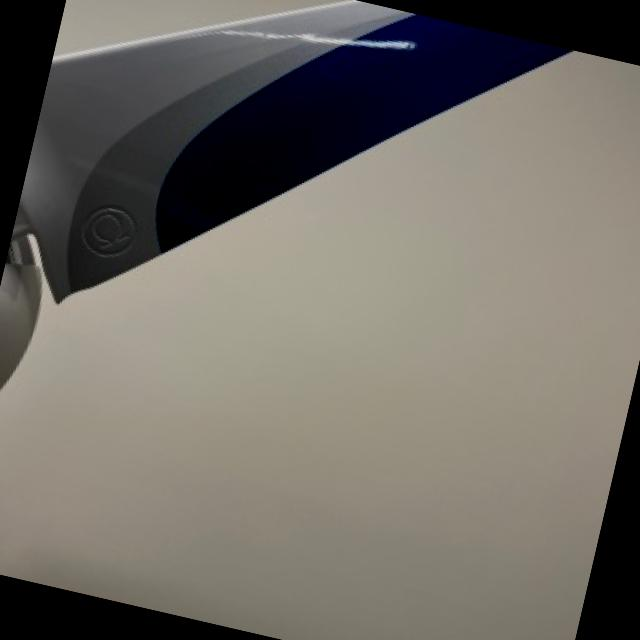healthy: (0, 0, 573, 391)
